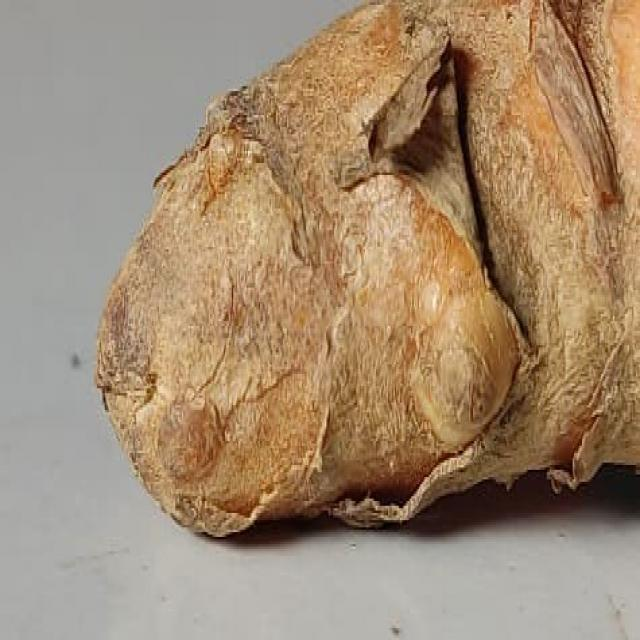ginger: (113, 4, 640, 528)
